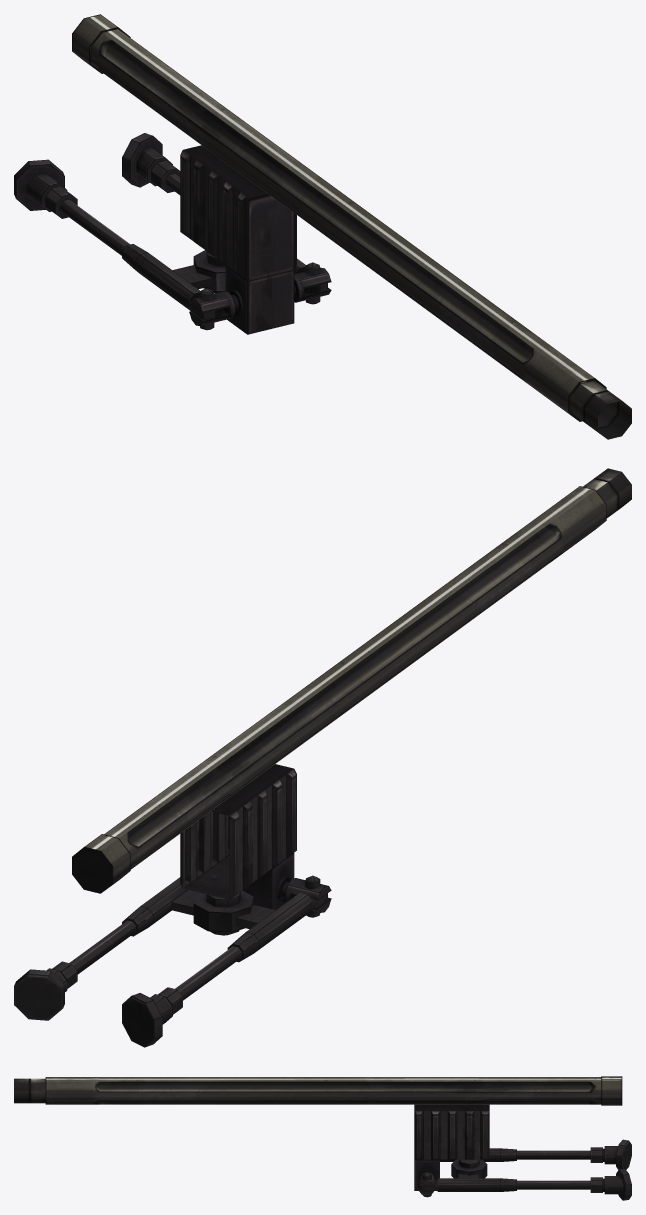
Rendered from SniperRifle_Warfare_Barrel_0.FBX.
3 views of the same model, one above another, from view 1: azimuth 30°, elevation 25°; view 2: azimuth 150°, elevation 25°; view 3: azimuth 270°, elevation 25° (orthographic). The views are drawn at different scales.
Parts seen in each view (by area): view 1: mesh_barrel; view 2: mesh_barrel; view 3: mesh_barrel.
Boxes of the visible parts, x1,y1,x2,y2 form: mesh_barrel: (14,14,631,439); mesh_barrel: (14,468,631,1047); mesh_barrel: (14,1076,631,1200).
Size of the model in its own units: 0.0983 by 0.1169 by 0.6162.
